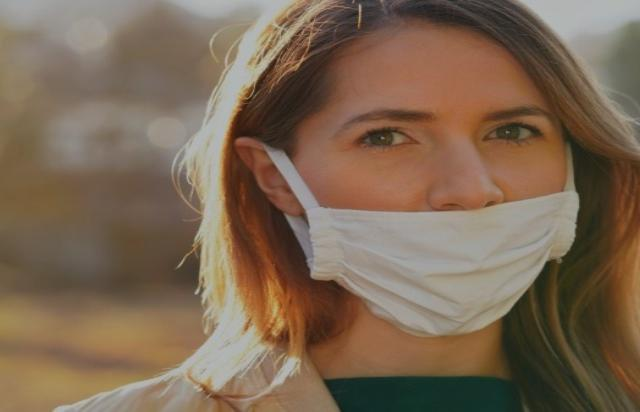mask_weared_incorrect: (200, 1, 581, 341)
